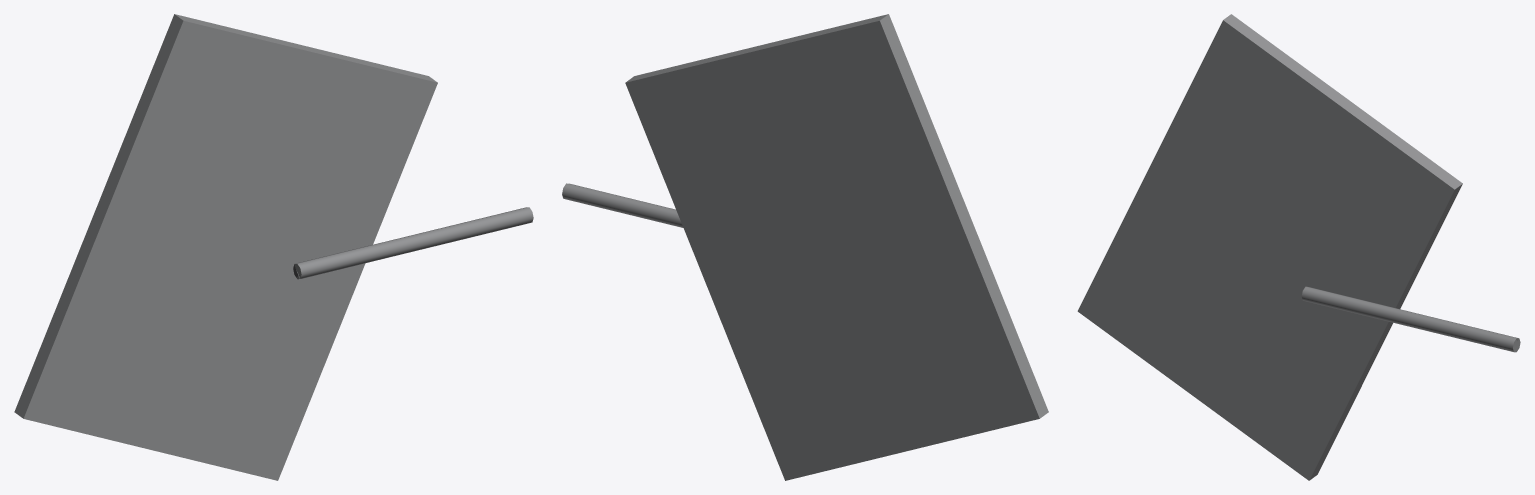
3 renders of one model, left to right at view 1: azimuth 30°, elevation 25°; view 2: azimuth 150°, elevation 25°; view 3: azimuth 330°, elevation 25°, orthographic. The views are drawn at different scales.
Bounding box in the file's own units: 0.4371 × 0.4084 × 0.0383.
